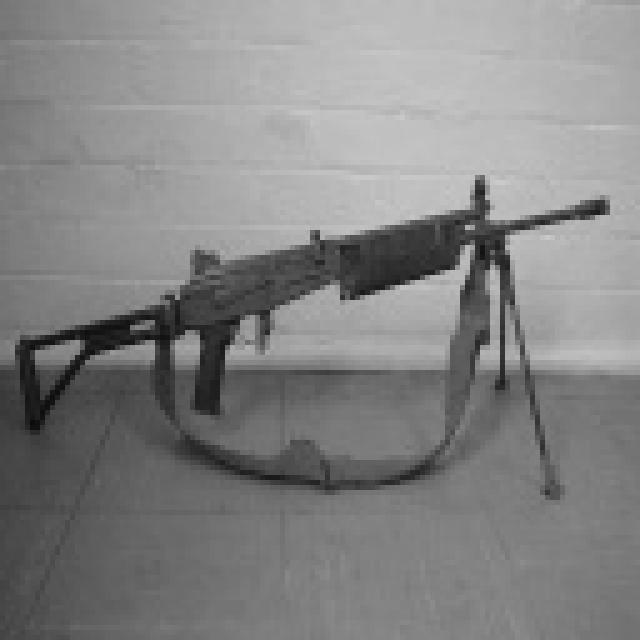Rifle: (0, 160, 625, 522)
